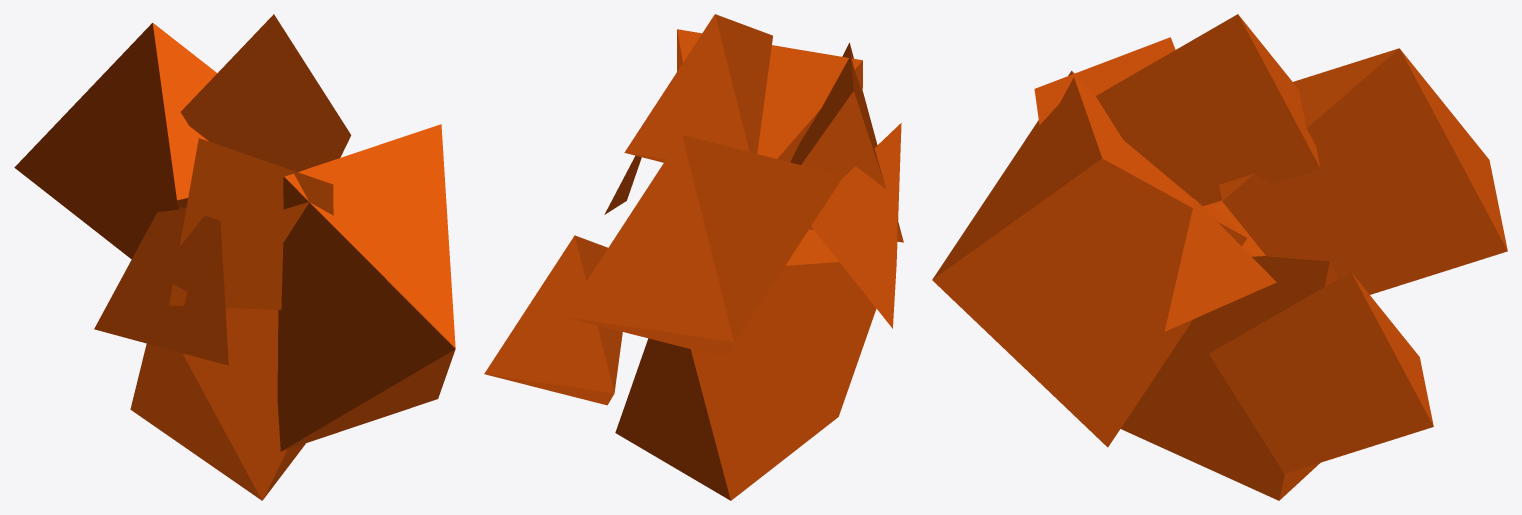
File: tree-autumn-leaves-019.glb
The picture shows the model from 3 angles, left to right: view 1: azimuth 30°, elevation 25°; view 2: azimuth 150°, elevation 25°; view 3: azimuth 270°, elevation 25°; orthographic projection. The views are drawn at different scales.
Visible parts, largest first — view 1: Cube.028_347; view 2: Cube.028_347; view 3: Cube.028_347.
Boxes of the visible parts, x1,y1,x2,y2 form: Cube.028_347: (14, 14, 455, 500); Cube.028_347: (484, 14, 903, 500); Cube.028_347: (932, 14, 1507, 500).
Bounding box in the file's own units: 0.7351 × 0.9493 × 1.1.
